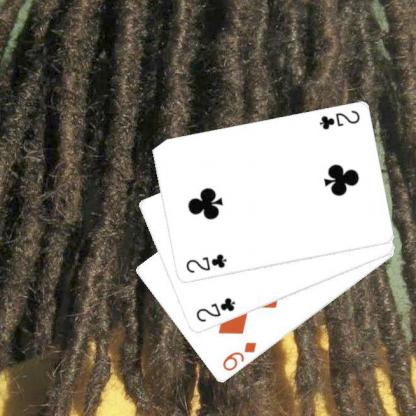2C: (192, 294, 236, 324), (316, 107, 361, 132), (183, 251, 228, 275)
9D: (220, 339, 258, 373)
